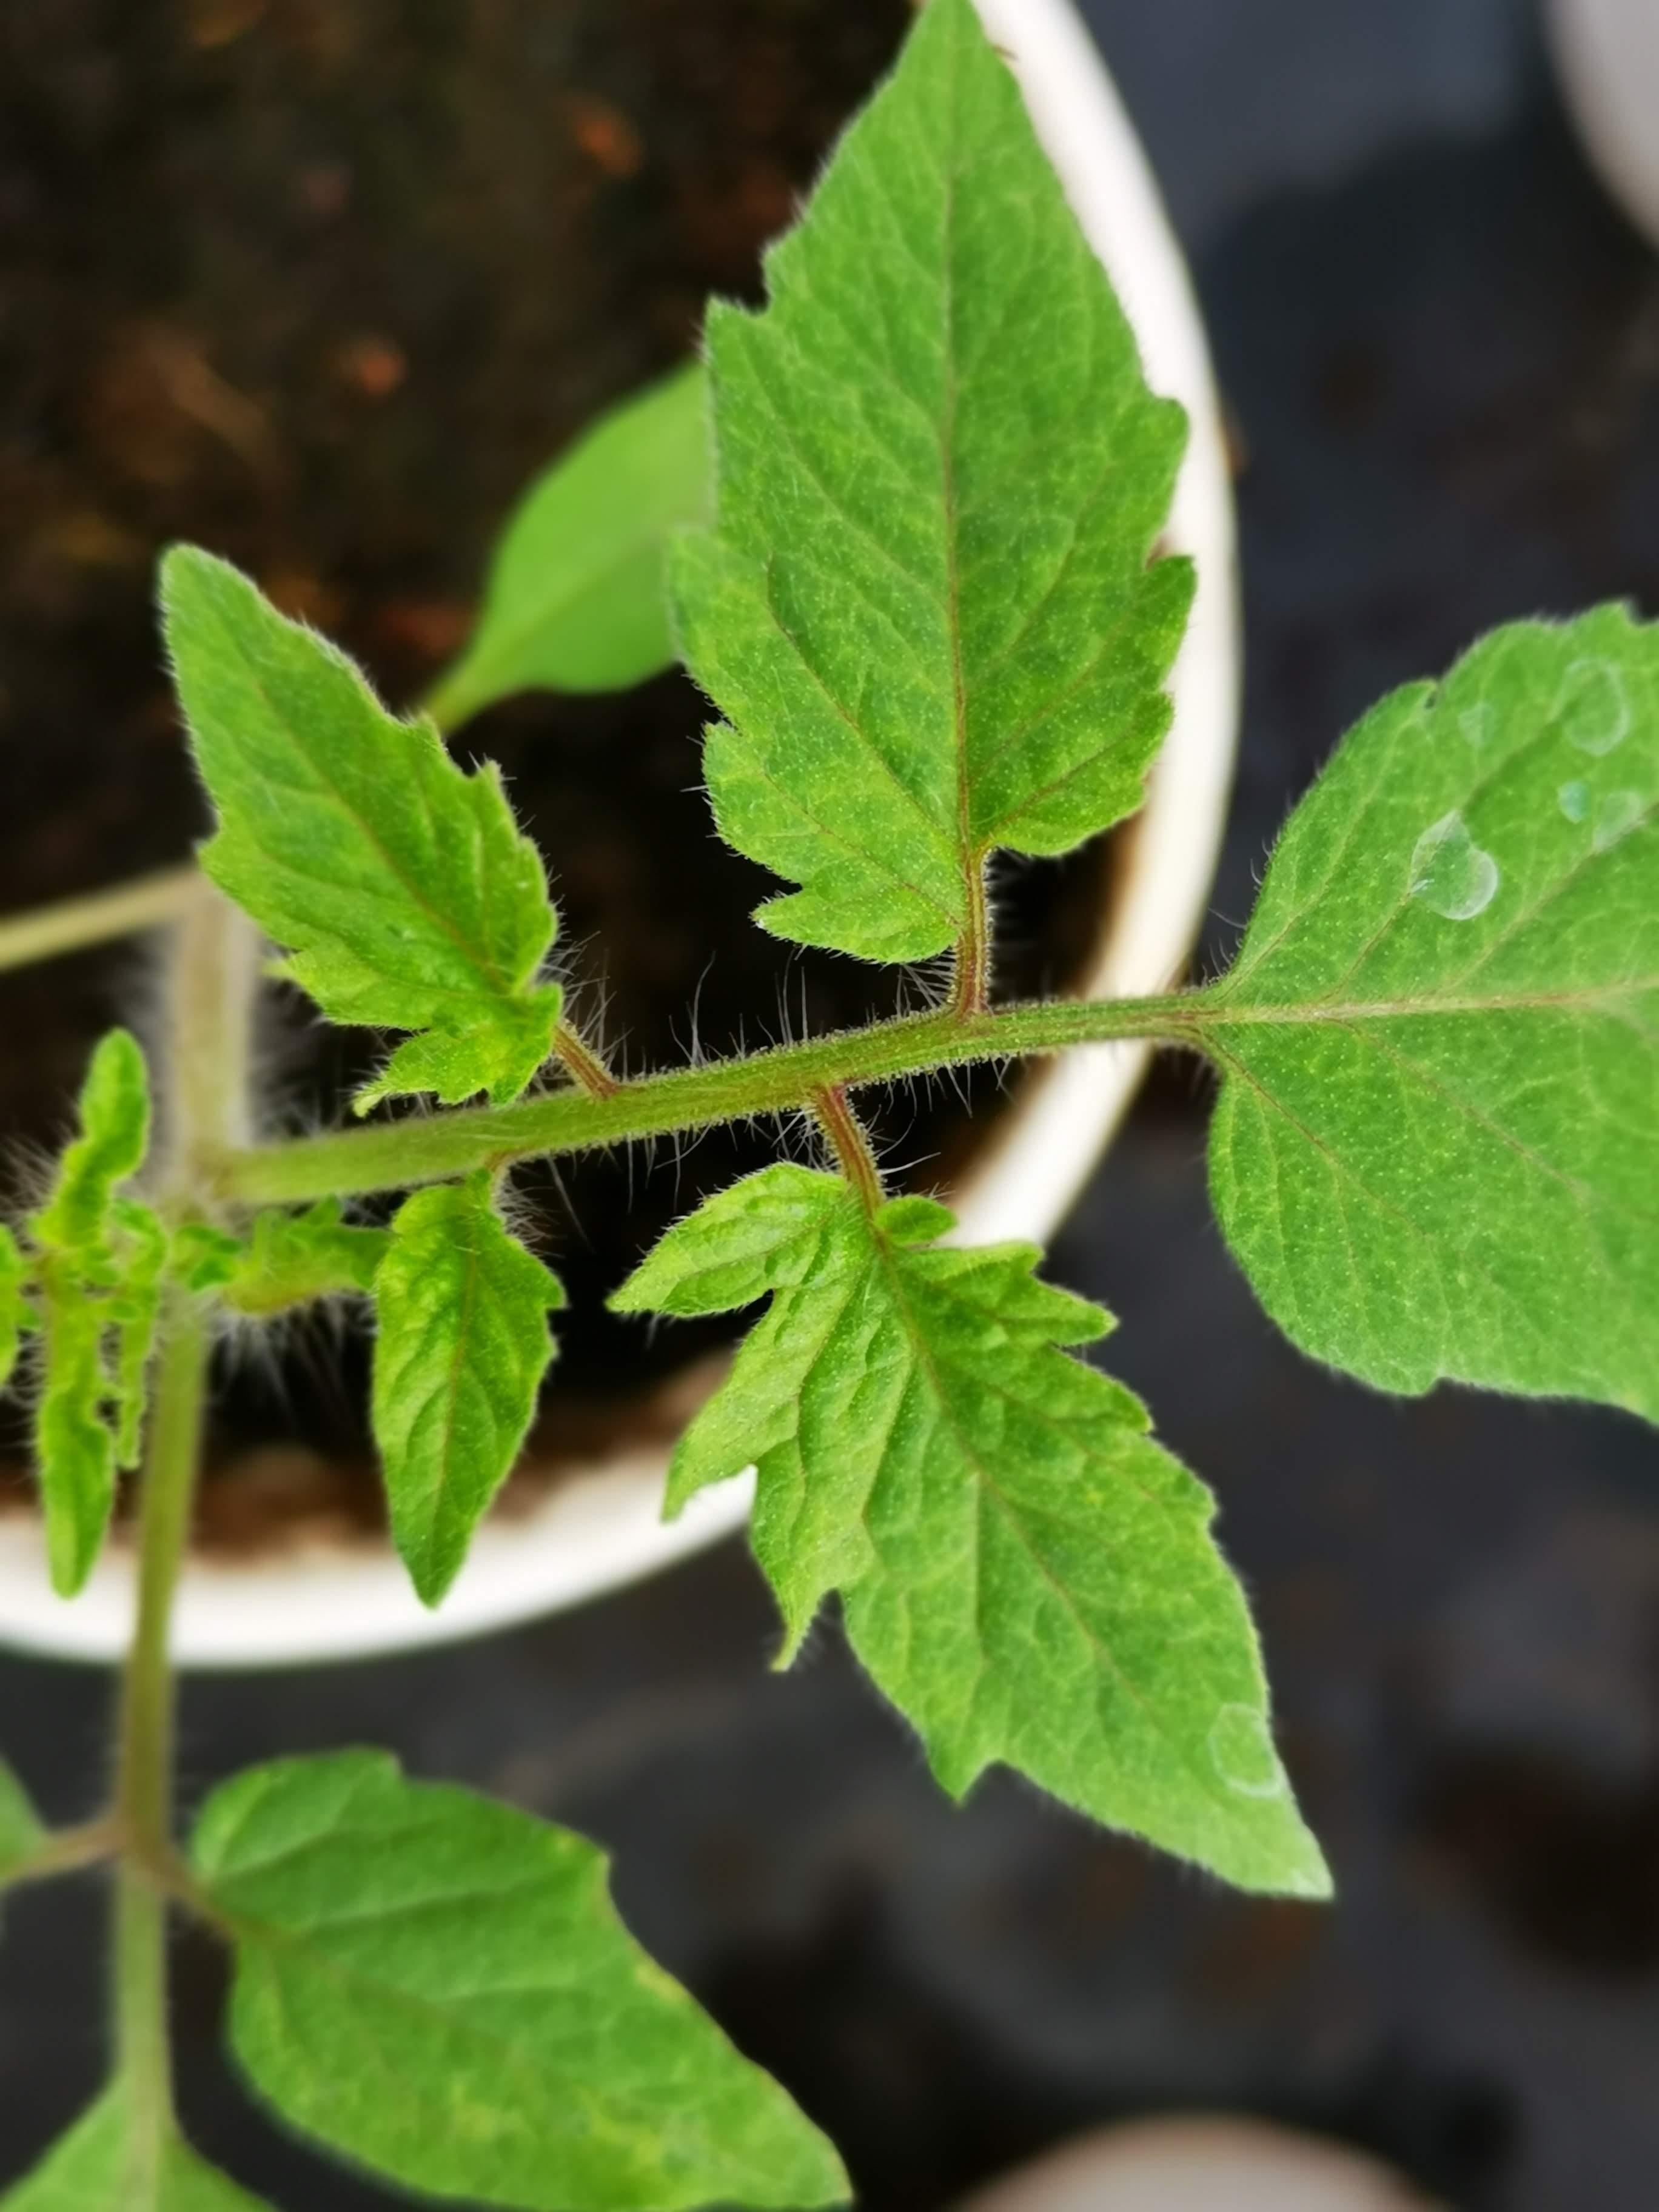Hoja rugoso: (605, 1162, 1331, 1898), (666, 0, 1195, 961), (1182, 599, 1659, 1433), (188, 1743, 857, 2212), (160, 547, 563, 1120), (368, 1170, 570, 1615)
Pedunculo rugoso: (216, 995, 1192, 1211)
